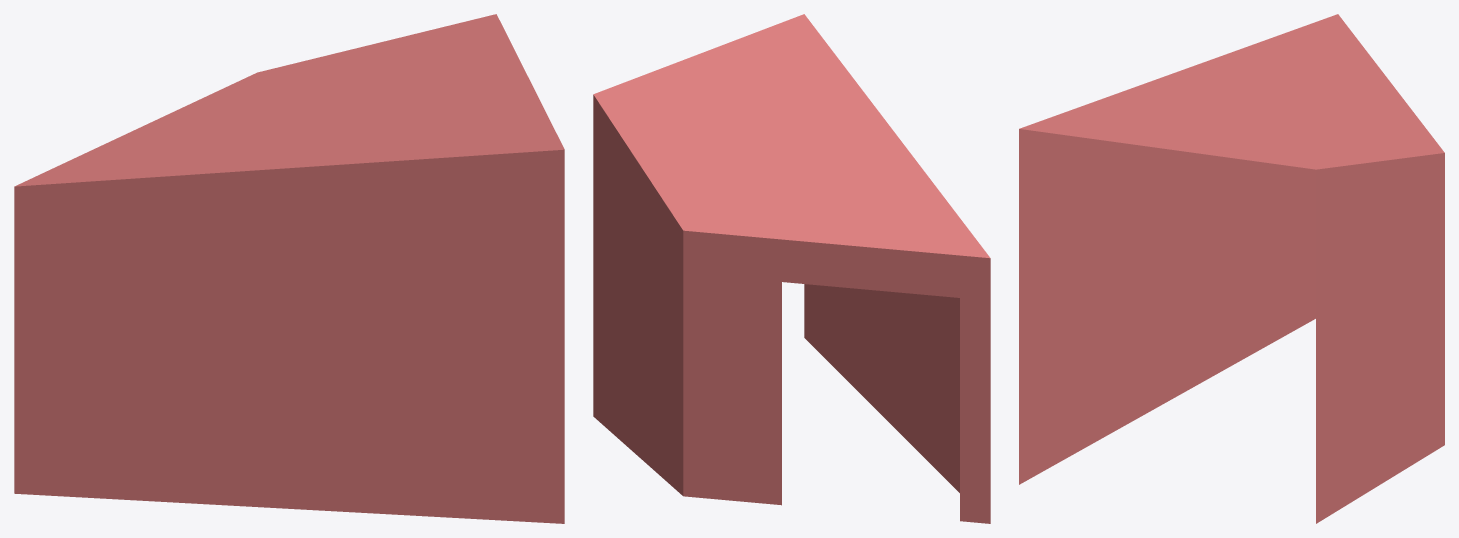
File: Close_Reentry_Wall_Updated.fbx
The picture shows the model from 3 angles, left to right: view 1: azimuth 30°, elevation 25°; view 2: azimuth 150°, elevation 25°; view 3: azimuth 270°, elevation 25°; orthographic projection. The views are drawn at different scales.
Parts seen in each view (by area): view 1: Close_Reentry_Wall_low; view 2: Close_Reentry_Wall_low; view 3: Close_Reentry_Wall_low.
Part boxes in pixels (x1,y1,x2,y2): Close_Reentry_Wall_low: (14, 14, 564, 523); Close_Reentry_Wall_low: (593, 14, 990, 523); Close_Reentry_Wall_low: (1019, 14, 1444, 523).
Bounding box in the file's own units: 495 × 376 × 408.
